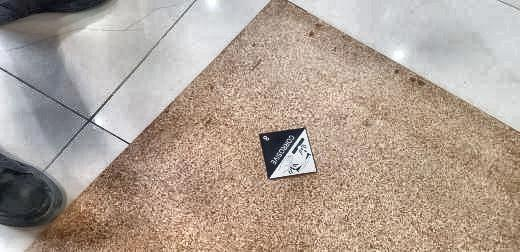corrosive: (258, 129, 318, 179)
